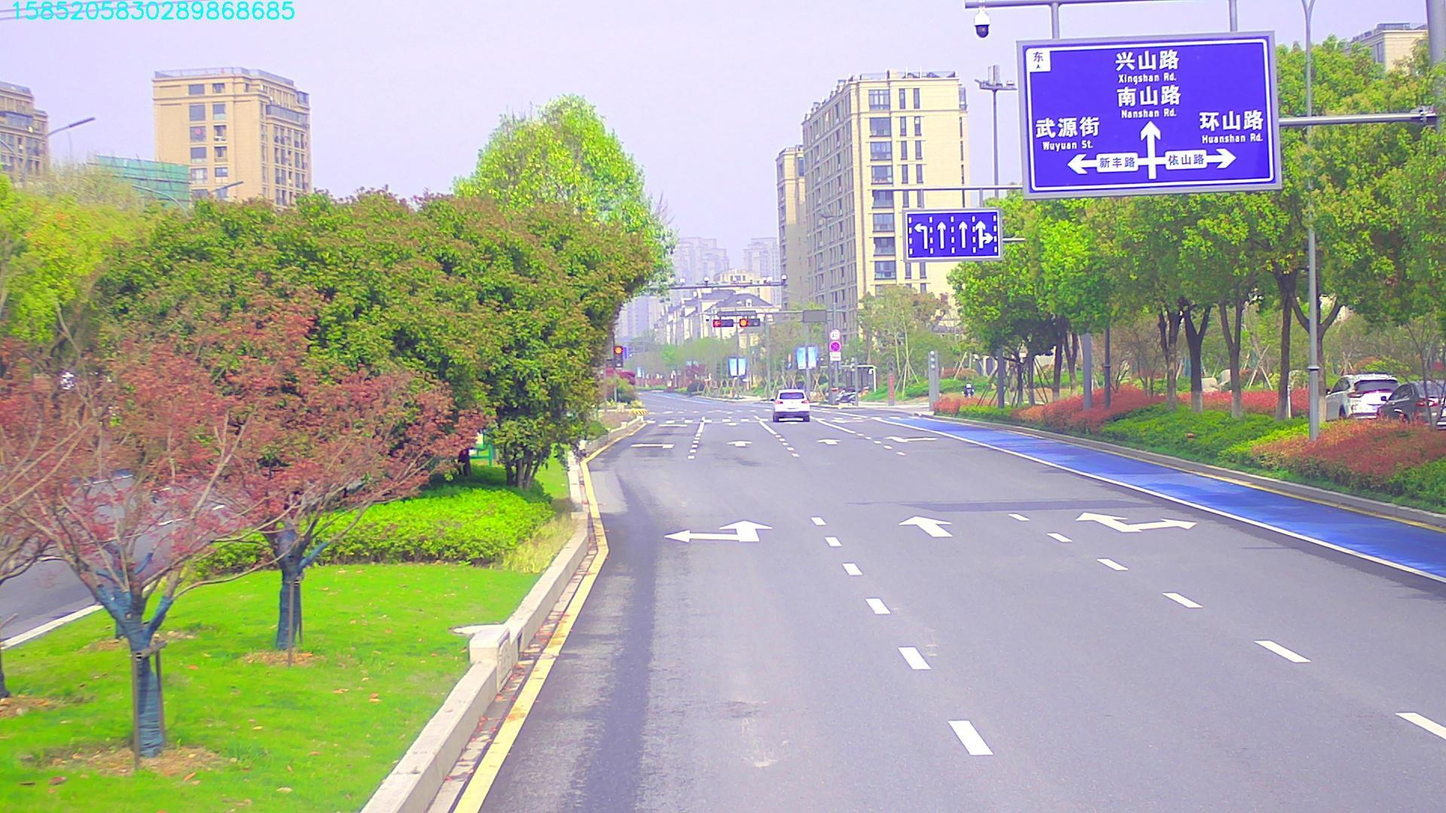red: (709, 317, 737, 326), (742, 317, 764, 327)
